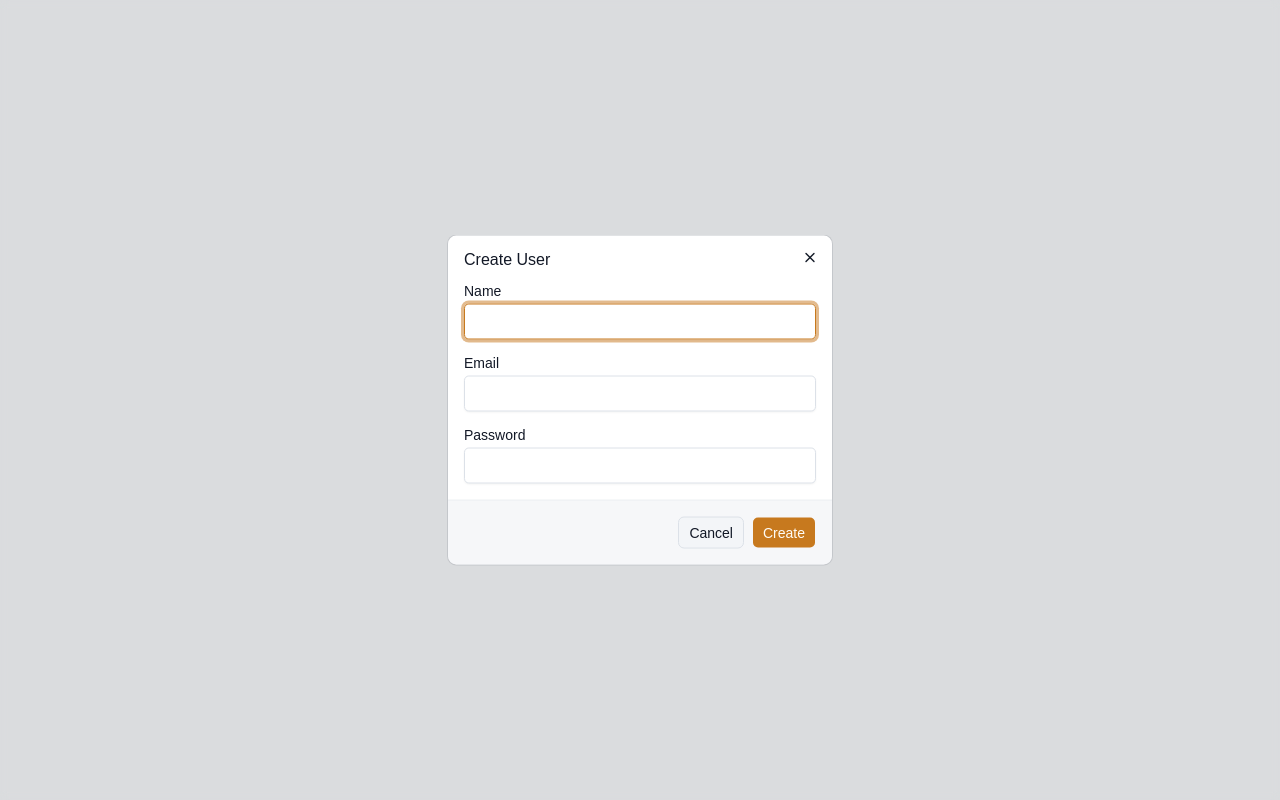
UserFormDialog — Create mode › Validation › shows errors for all empty fields on submit
Click the button "Create": (784, 532) [752,516,816,548]
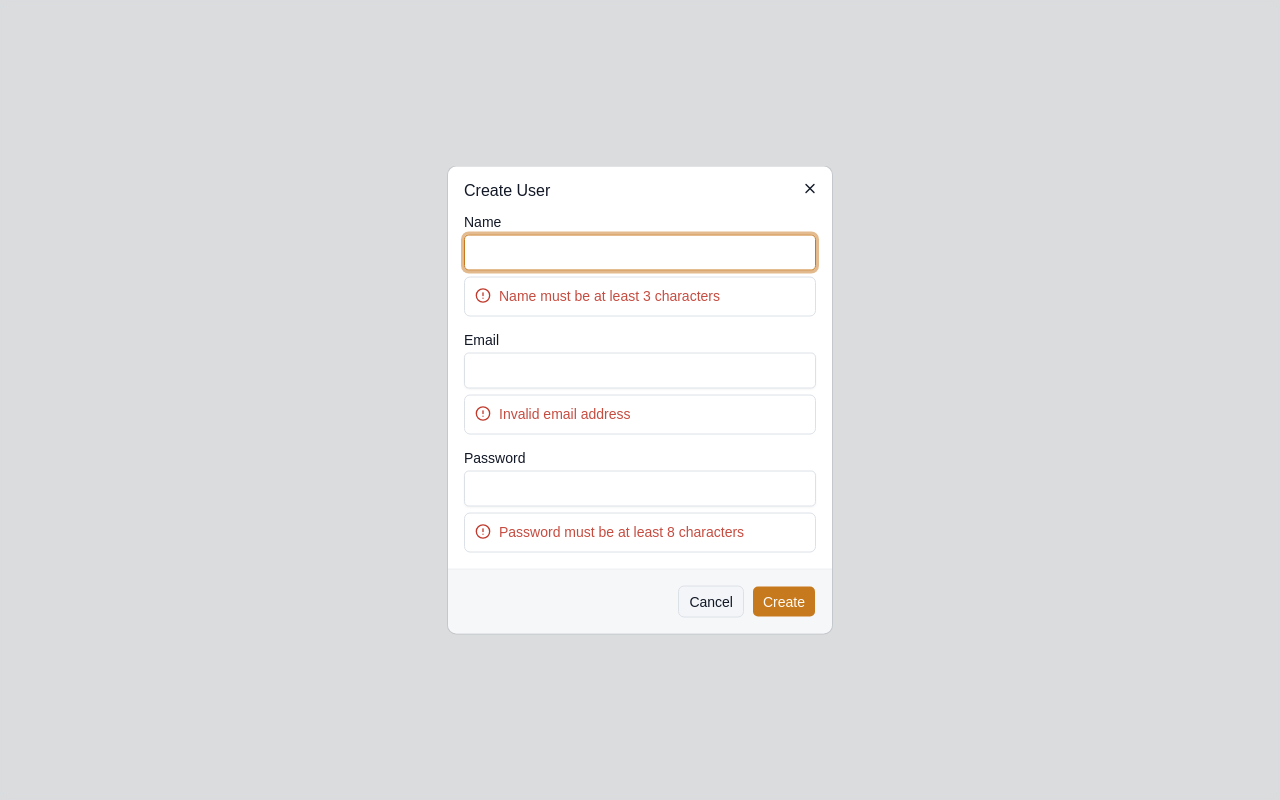
Expected: the text "Name must be at least 3 characters" is shown, [499,288,720,304]
Expected: the text "Invalid email address" is shown, [499,406,630,422]
Expected: the text "Password must be at least 8 characters" is shown, [499,524,744,540]
